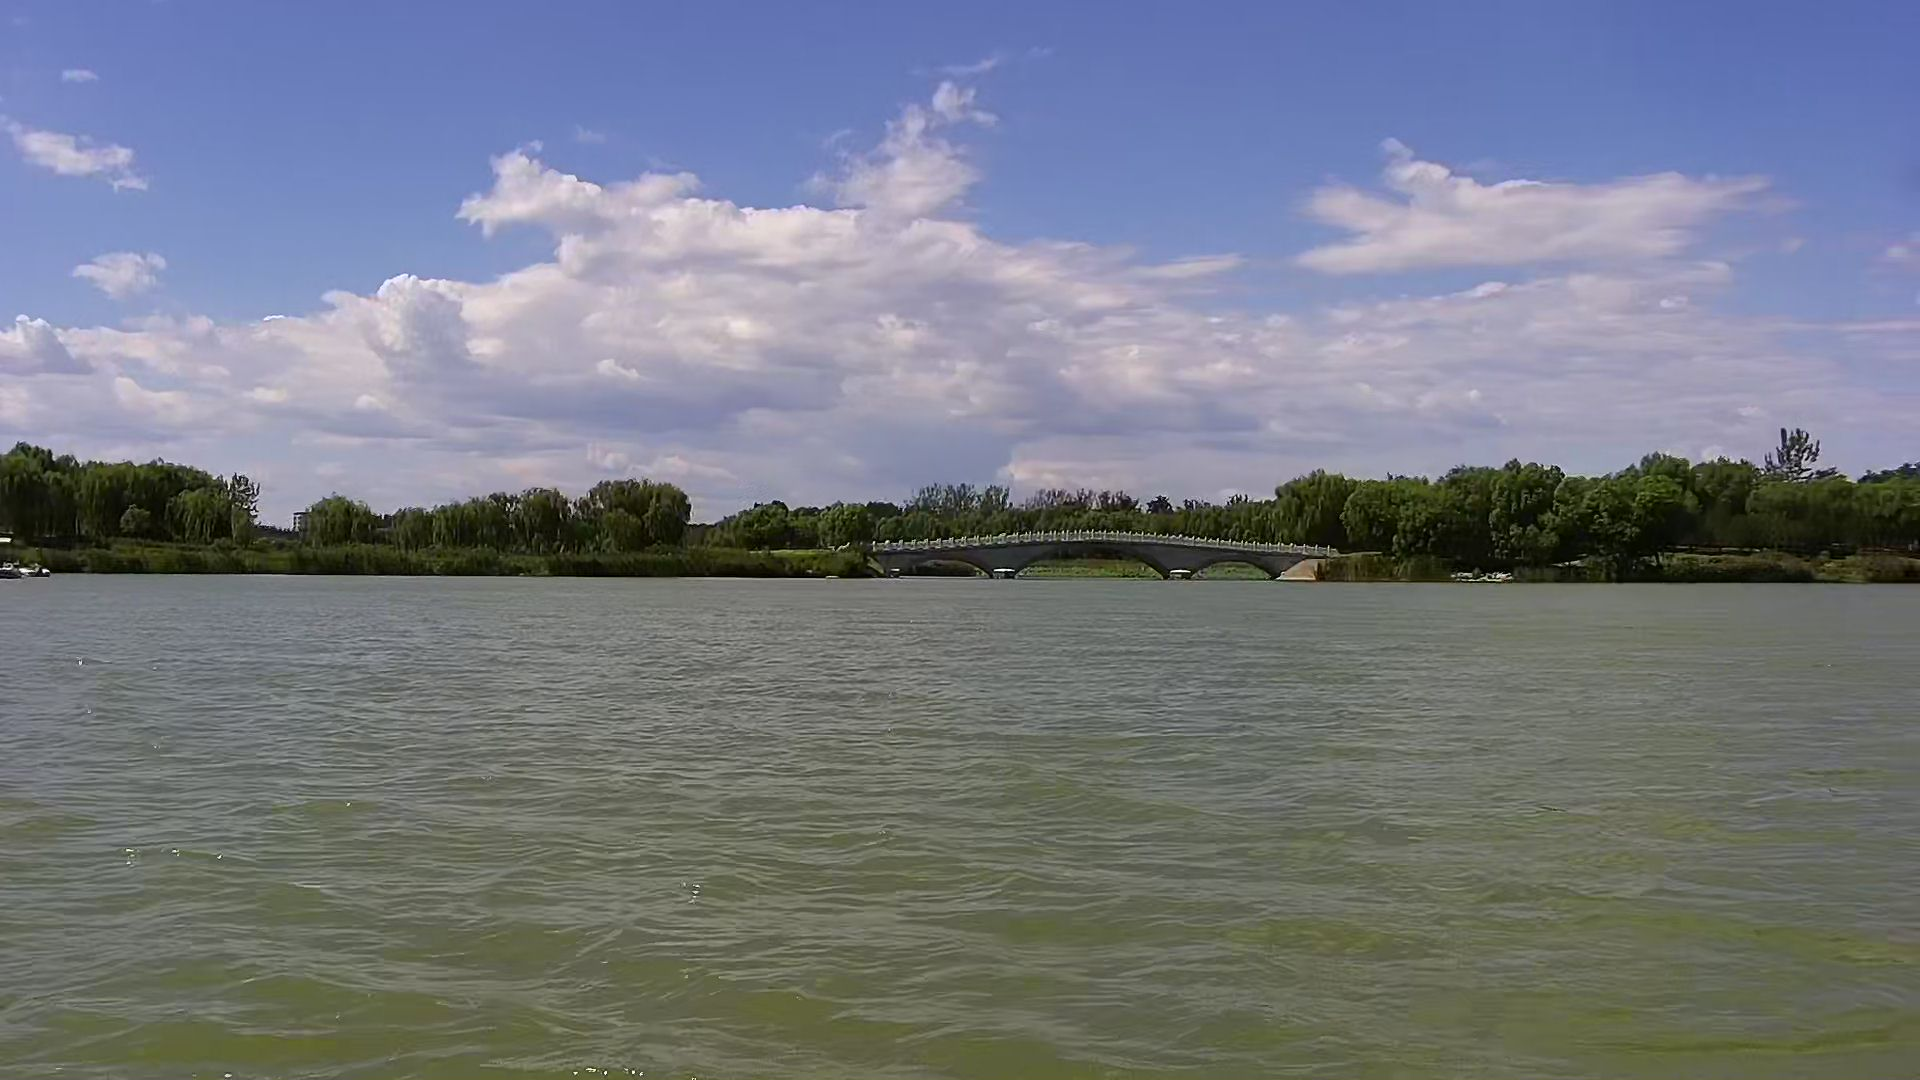bridge: (866, 527, 1329, 583)
